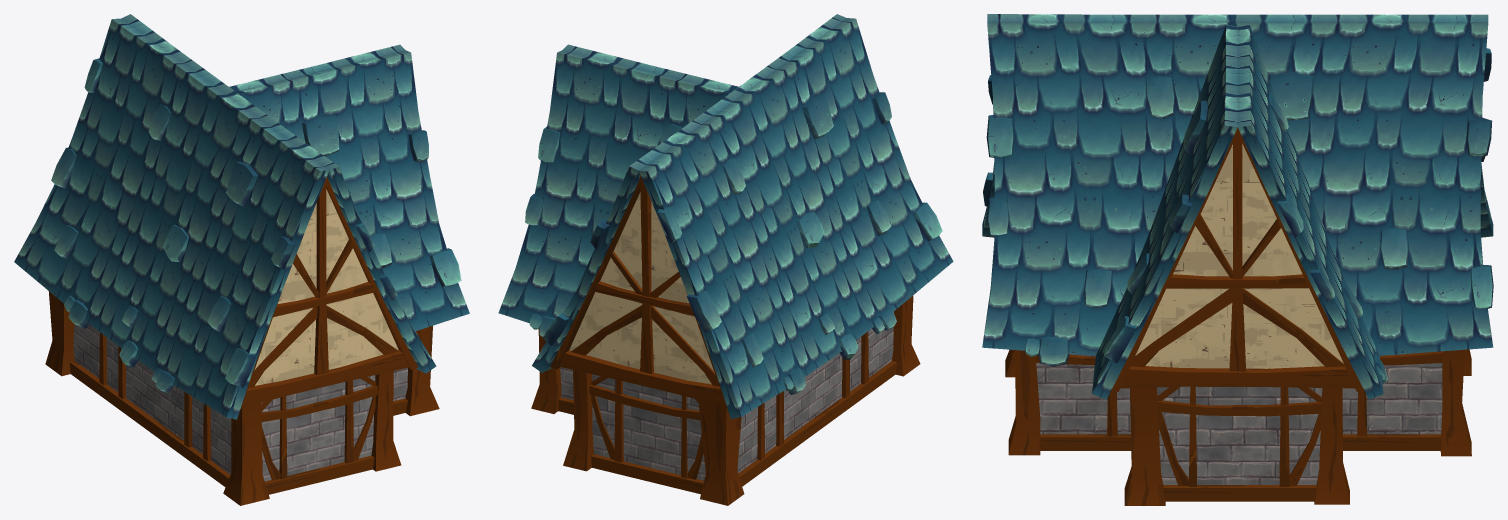
File: SM_BLD_body_v05_01.glb
3 views of the same model, side by side, from view 1: azimuth 30°, elevation 25°; view 2: azimuth 150°, elevation 25°; view 3: azimuth 270°, elevation 25° (orthographic). The views are drawn at different scales.
Visible parts, largest first — view 1: SM_BLD_body_v05_01_EXPORT; view 2: SM_BLD_body_v05_01_EXPORT; view 3: SM_BLD_body_v05_01_EXPORT.
Part boxes in pixels (x1,y1,x2,y2): SM_BLD_body_v05_01_EXPORT: [14, 14, 469, 505]; SM_BLD_body_v05_01_EXPORT: [498, 14, 953, 505]; SM_BLD_body_v05_01_EXPORT: [982, 14, 1493, 505].
Bounding box in the file's own units: 10.24 × 10.78 × 12.88.
4 materials, 4 textured.
